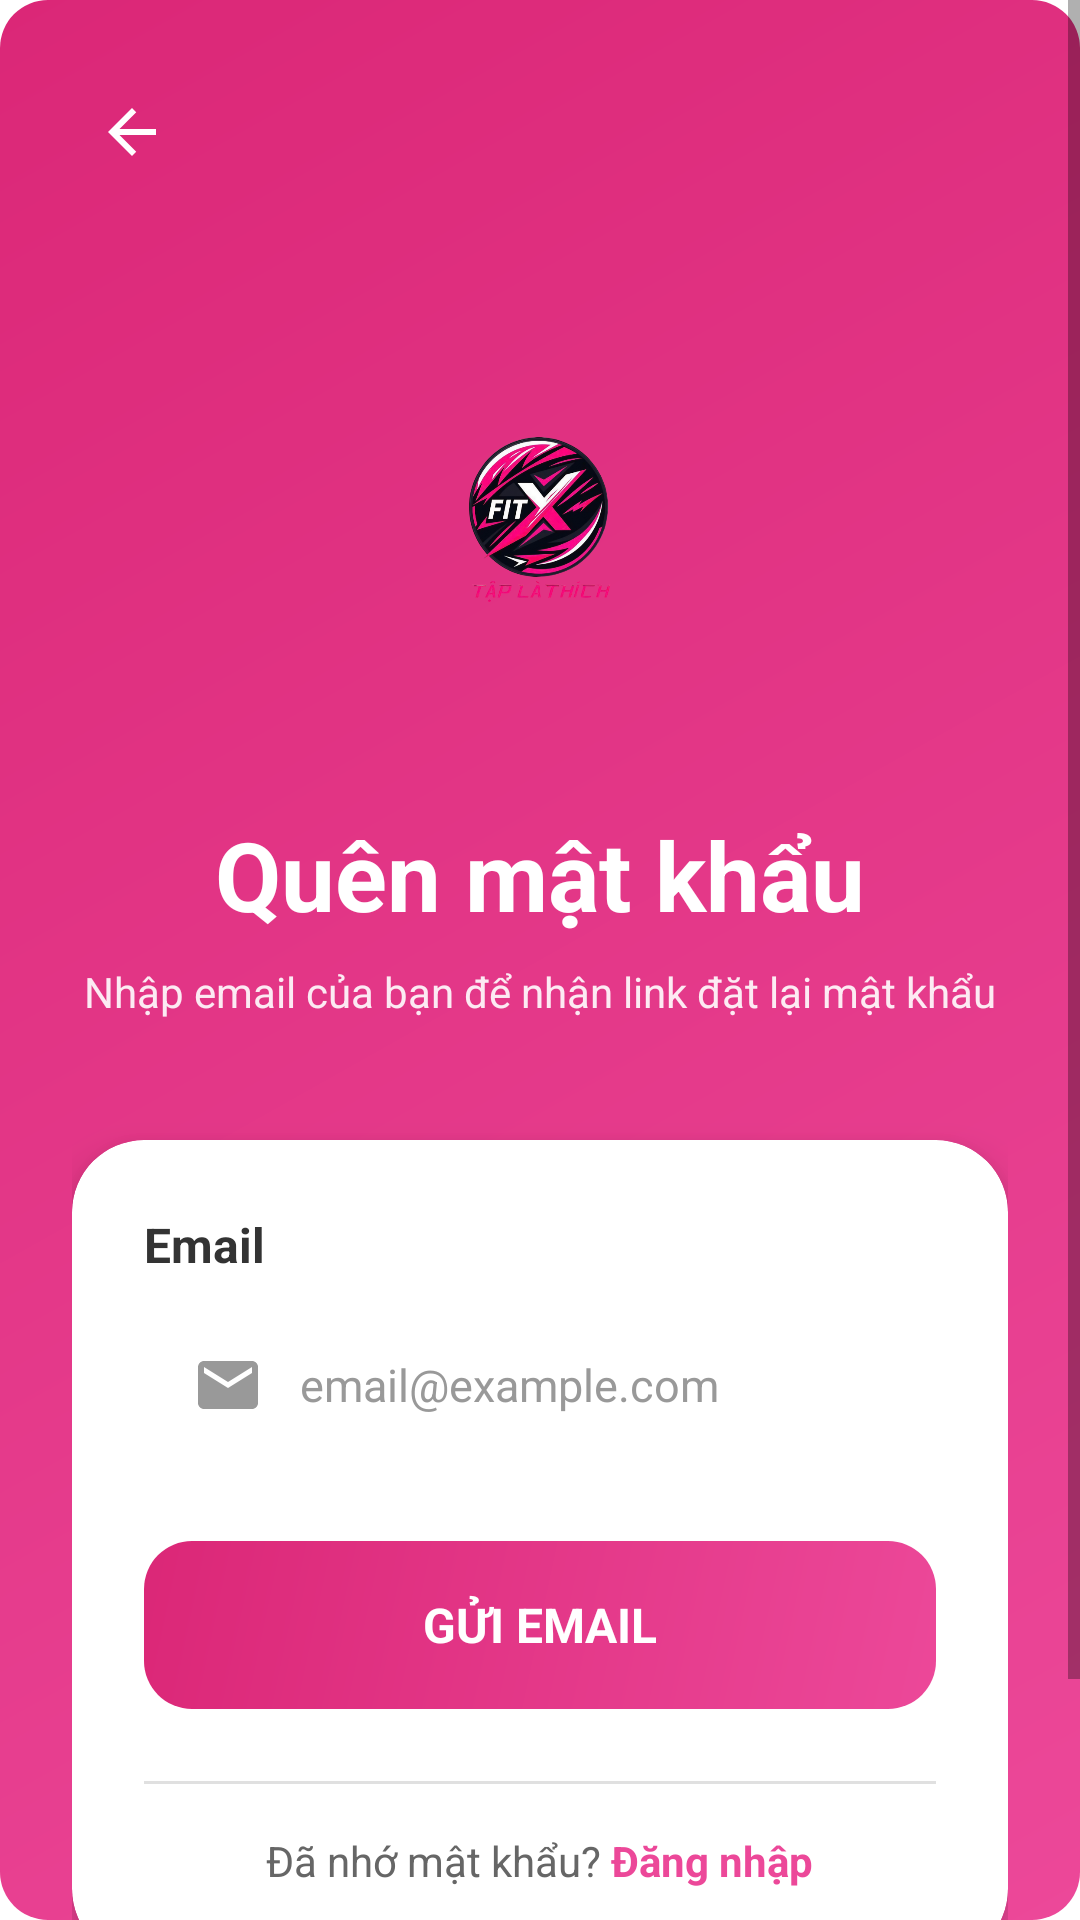

Icon click points for this 1080px x 1920px phone screenshot, format (x=x, y=y):
arrow back: (x=132, y=132)
